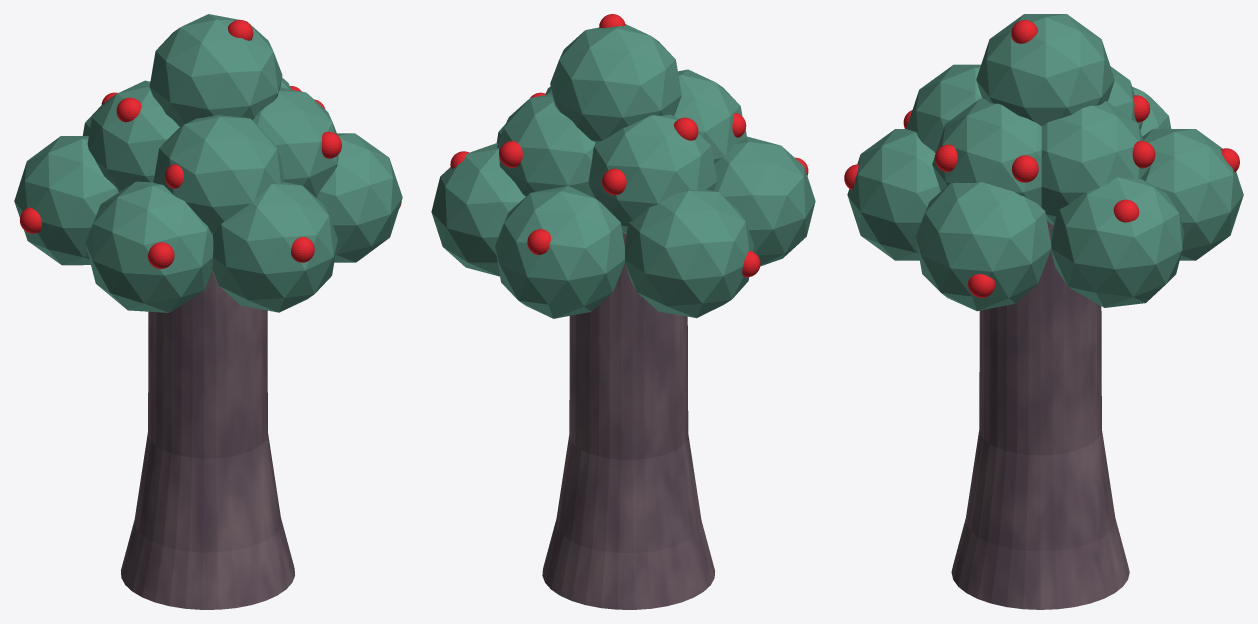
Rendered from tree2.gltf.
3 views of the same model, side by side, from view 1: azimuth 30°, elevation 25°; view 2: azimuth 150°, elevation 25°; view 3: azimuth 270°, elevation 25° (orthographic). The views are drawn at different scales.
Visible parts, largest first — view 1: Leaves.001, trunk.001, Sphere.014; view 2: Leaves.001, trunk.001, Sphere.011, Sphere.004; view 3: Leaves.001, trunk.001, Sphere.006.
Boxes of the visible parts, bbox=[...] form: Leaves.001: bbox=[14, 14, 402, 312]; trunk.001: bbox=[121, 271, 294, 609]; Sphere.014: bbox=[148, 242, 174, 268]; Leaves.001: bbox=[431, 24, 815, 318]; trunk.001: bbox=[542, 232, 715, 609]; Sphere.011: bbox=[602, 168, 626, 195]; Sphere.004: bbox=[499, 141, 522, 167]; Leaves.001: bbox=[847, 14, 1243, 311]; trunk.001: bbox=[951, 221, 1129, 609]; Sphere.006: bbox=[1012, 155, 1038, 182].
Size of the model in its own units: 6.28 by 10.29 by 6.62.
3 materials, 1 textured.
